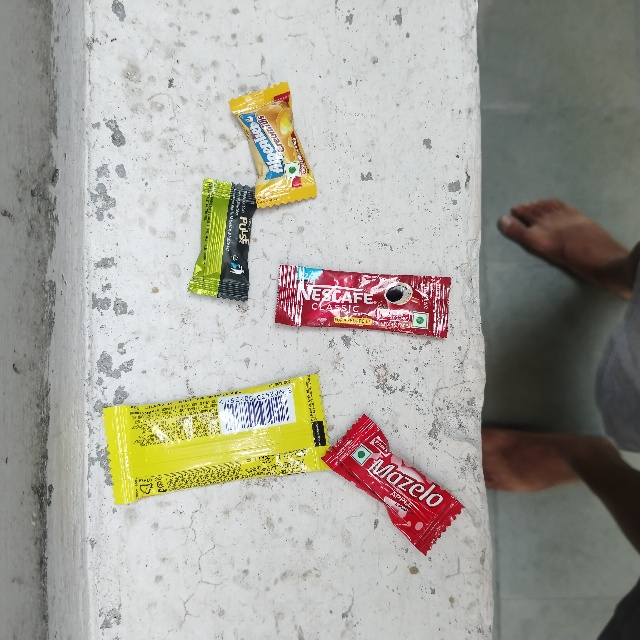Alpenlibe Creamfills: (284, 78, 412, 137)
Mazelo: (362, 413, 504, 478)
Nescafe Coffee: (279, 265, 453, 326)
Orbit: (90, 410, 327, 506)
Pulse: (207, 177, 261, 295)
